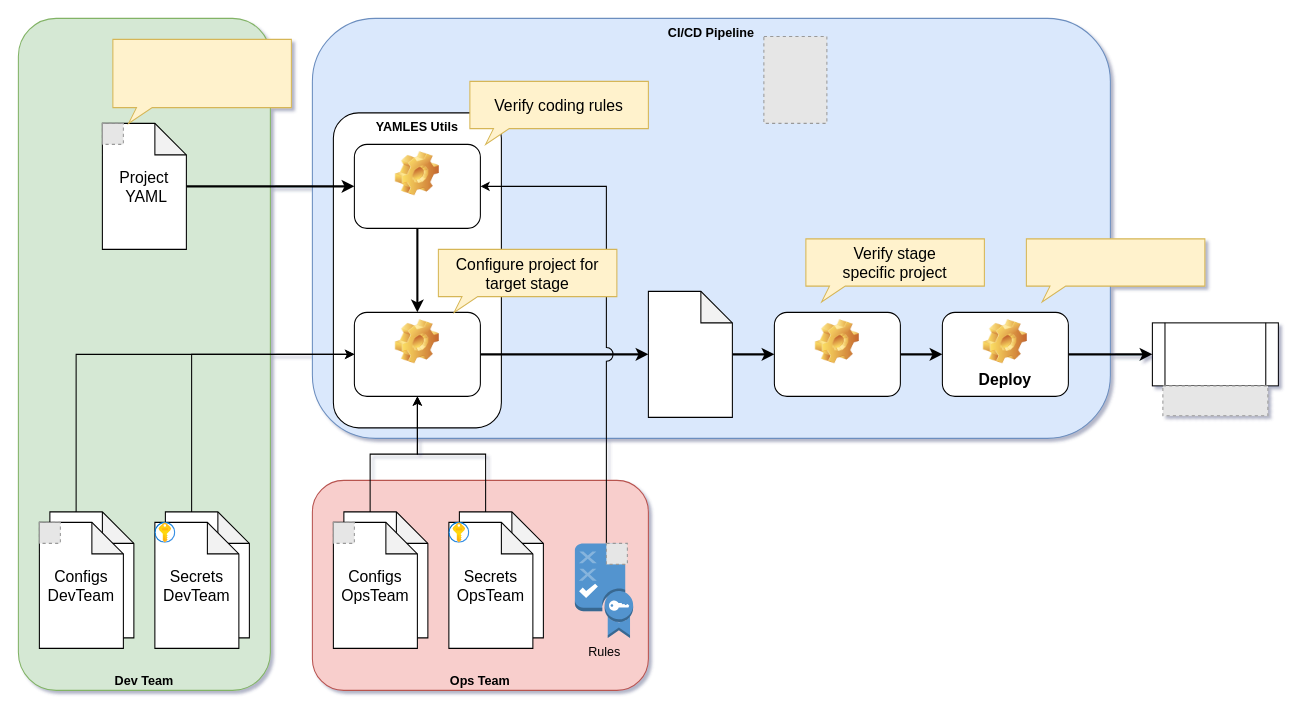
Some shapes in this 1303 by 715 pixel diagram are drawn without their labels. Grey dashed boxes stand in for pictures. Each missing label, with the centre of its shape:
"API Gateway" belongs at [1214,354].
"Apply passphrase" belongs at [1115,270].
"Configure" belongs at [416,353].
"Lint" belongs at [416,185].
"Project YAML (stage)" belongs at [689,353].
"Stage independent PolicyStudio project. No passphrase used." belongs at [201,80].
"Verify" belongs at [836,353].
